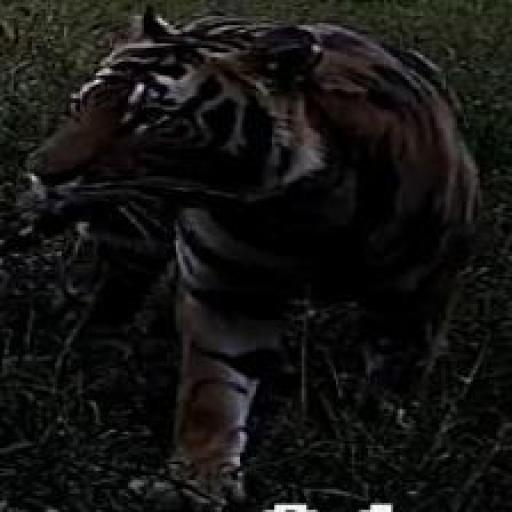Tiger: (50, 2, 493, 497)
